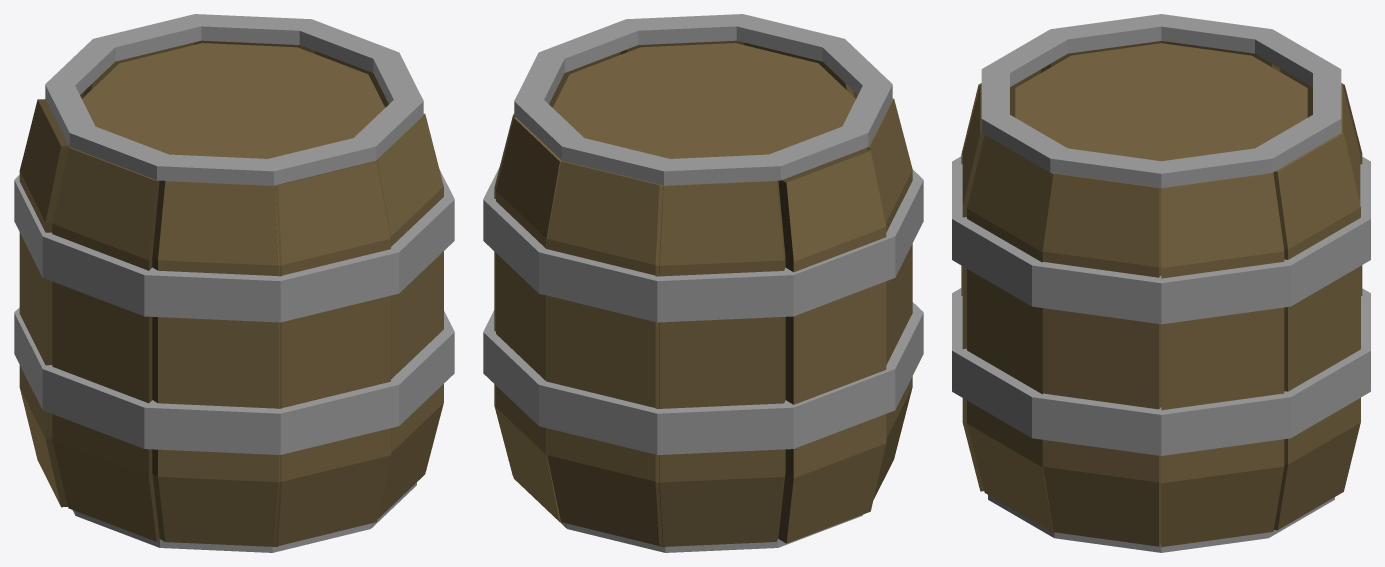
Rendered from barell.fbx.
3 views of the same model, side by side, from view 1: azimuth 30°, elevation 25°; view 2: azimuth 150°, elevation 25°; view 3: azimuth 270°, elevation 25° (orthographic).
Parts seen in each view (by area): view 1: Труба, Труба_1, Труба_2; view 2: Труба, Труба_1, Труба_2; view 3: Труба, Труба_1, Труба_2.
Part boxes in pixels (bbox=[...]): Труба: bbox=[19, 14, 443, 552]; Труба_1: bbox=[14, 169, 454, 322]; Труба_2: bbox=[14, 307, 454, 454]; Труба: bbox=[494, 14, 912, 552]; Труба_1: bbox=[483, 167, 923, 322]; Труба_2: bbox=[483, 302, 923, 454]; Труба: bbox=[961, 14, 1362, 552]; Труба_1: bbox=[952, 156, 1370, 324]; Труба_2: bbox=[952, 288, 1370, 455].
Bounding box in the file's own units: 211 × 202 × 200.
